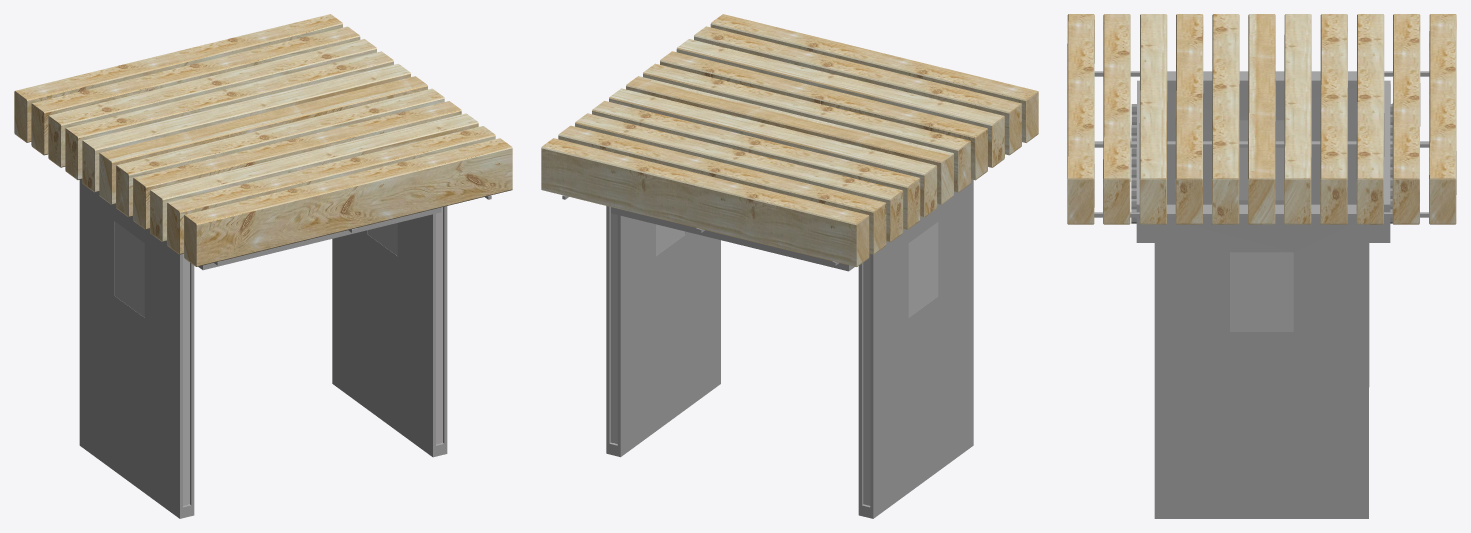
Rendered from sh-scopia-littlebank.glb.
3 views of the same model, side by side, from view 1: azimuth 30°, elevation 25°; view 2: azimuth 150°, elevation 25°; view 3: azimuth 270°, elevation 25° (orthographic). The views are drawn at different scales.
Parts seen in each view (by area): view 1: maderas_banco.001_Cub, bancoluz.001_Cube.001, bancoluz.001_Cube; view 2: maderas_banco.001_Cub, bancoluz.001_Cube.001, bancoluz.001_Cube; view 3: bancoluz.001_Cube.001, maderas_banco.001_Cub, bancoluz.001_Cube.
Boxes of the visible parts, left/top/right/bottom form: maderas_banco.001_Cub: left=14, top=14, right=512, bottom=266; bancoluz.001_Cube.001: left=79, top=179, right=491, bottom=518; bancoluz.001_Cube: left=115, top=207, right=442, bottom=505; maderas_banco.001_Cub: left=541, top=14, right=1038, bottom=266; bancoluz.001_Cube.001: left=562, top=179, right=973, bottom=518; bancoluz.001_Cube: left=611, top=213, right=938, bottom=505; bancoluz.001_Cube.001: left=1094, top=71, right=1429, bottom=518; maderas_banco.001_Cub: left=1067, top=14, right=1456, bottom=224; bancoluz.001_Cube: left=1230, top=120, right=1293, bottom=331.
Size of the model in its own units: 1 by 1 by 1.
Materials: 3 (1 with a texture image).
